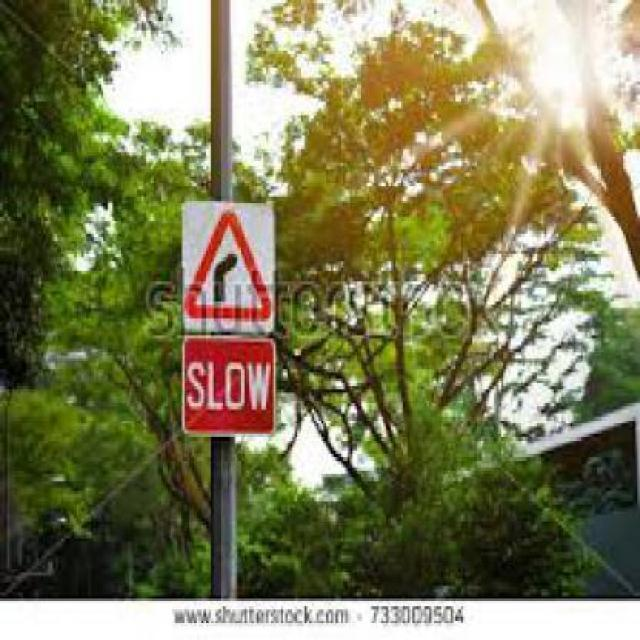warn_right_curve: (185, 210, 271, 326)
